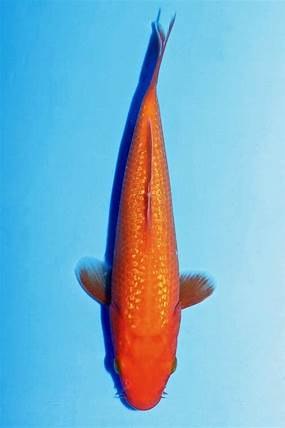red: (75, 11, 214, 410)
